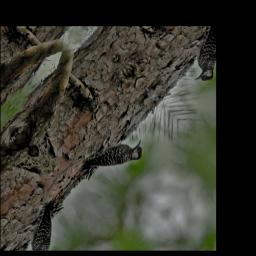Woodpecker: (78, 118, 151, 195)
